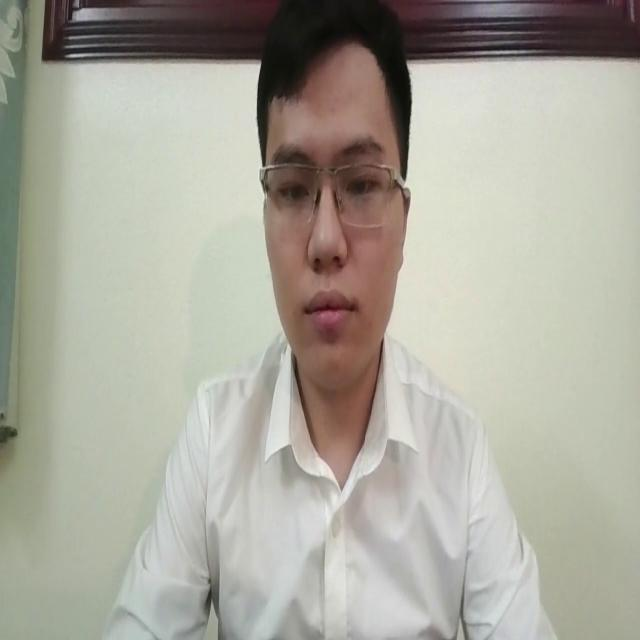student: (92, 0, 559, 640)
